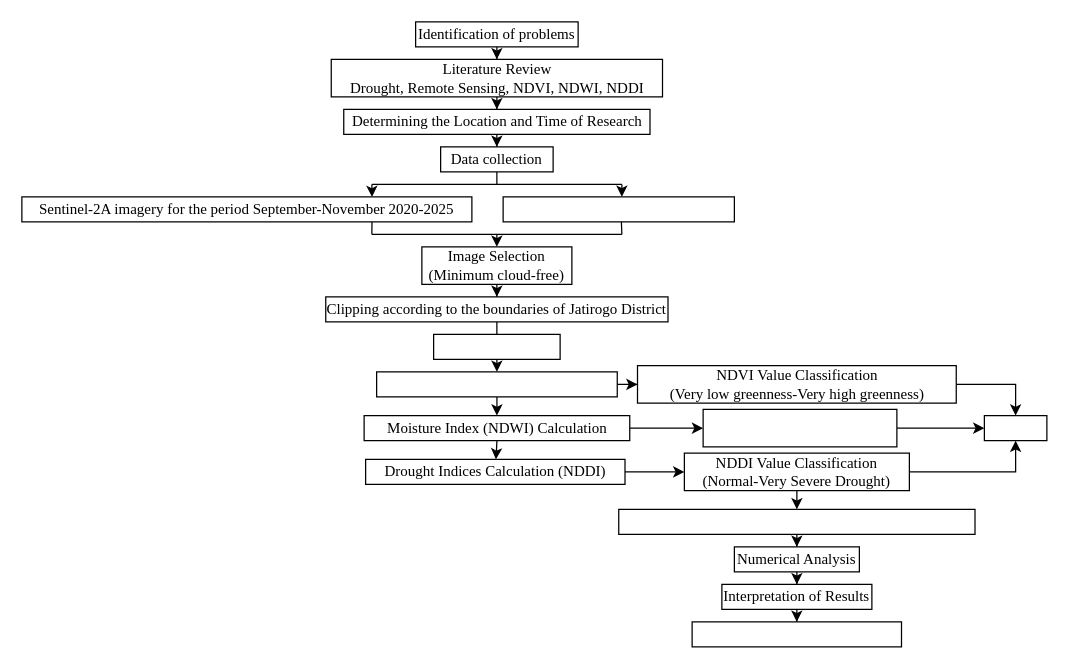
This 1069x669 diagram has some shape labels left out. The centre of each missing label's shape, as x and y in pixels:
"Administrative Boundary Data (AOI)" goes at pixel 618 209.
"Classification of NDWI Values (Non-High water body)" goes at pixel 799 427.
"Layout" goes at pixel 1015 427.
"Overlay analysis between NDDI and Village boundaries" goes at pixel 796 521.
"Preparation of Research Reports" goes at pixel 796 634.
"Raster Calculator" goes at pixel 496 346.
"Vegetation Index (NDVI) Calculation" goes at pixel 496 384.
